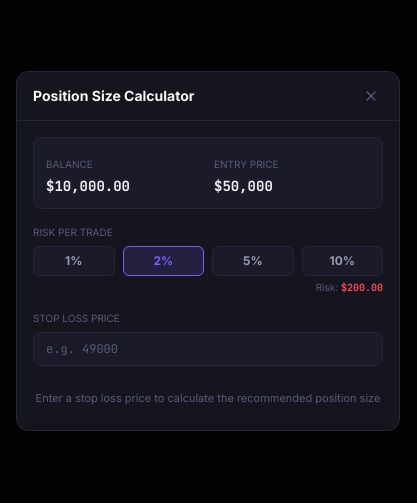
Test: PositionSizeCalculator › leverage label shows correct value
Type "49000" into the number field with placeholder "e.g. 49000". click: (208, 349)
box: x1=33 y1=332 x2=383 y2=366
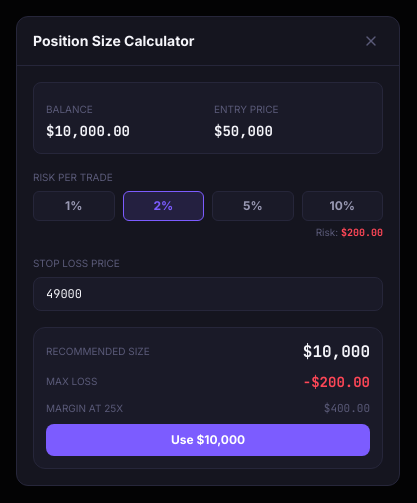
Expected: the text "Margin at 25x" is shown, x1=46 y1=400 x2=123 y2=416
